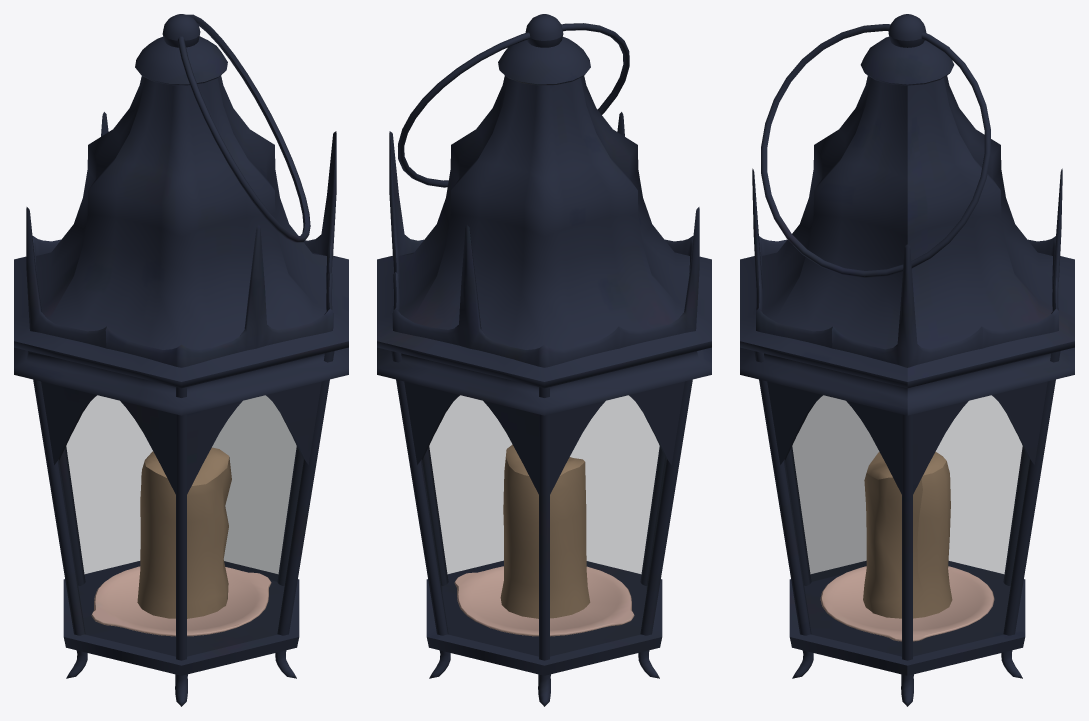
File: lantern.glb
The picture shows the model from 3 angles, left to right: view 1: azimuth 30°, elevation 25°; view 2: azimuth 150°, elevation 25°; view 3: azimuth 270°, elevation 25°; orthographic projection.
Parts seen in each view (by area): view 1: mnemolli_lamp, mnemolli_lamp_glass; view 2: mnemolli_lamp, mnemolli_lamp_glass; view 3: mnemolli_lamp, mnemolli_lamp_glass.
Boxes of the visible parts, x1,y1,x2,y2 form: mnemolli_lamp: (14,14,348,706); mnemolli_lamp_glass: (58,395,304,656); mnemolli_lamp: (377,14,711,706); mnemolli_lamp_glass: (421,395,667,656); mnemolli_lamp: (740,14,1074,706); mnemolli_lamp_glass: (784,395,1030,656).
Bounding box in the file's own units: 1.49 × 2.69 × 1.29.
5 materials, 2 textured.
